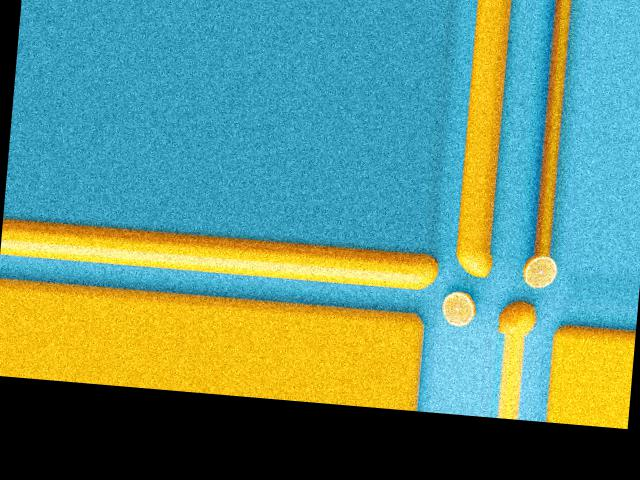lemon: (415, 257, 442, 293)
